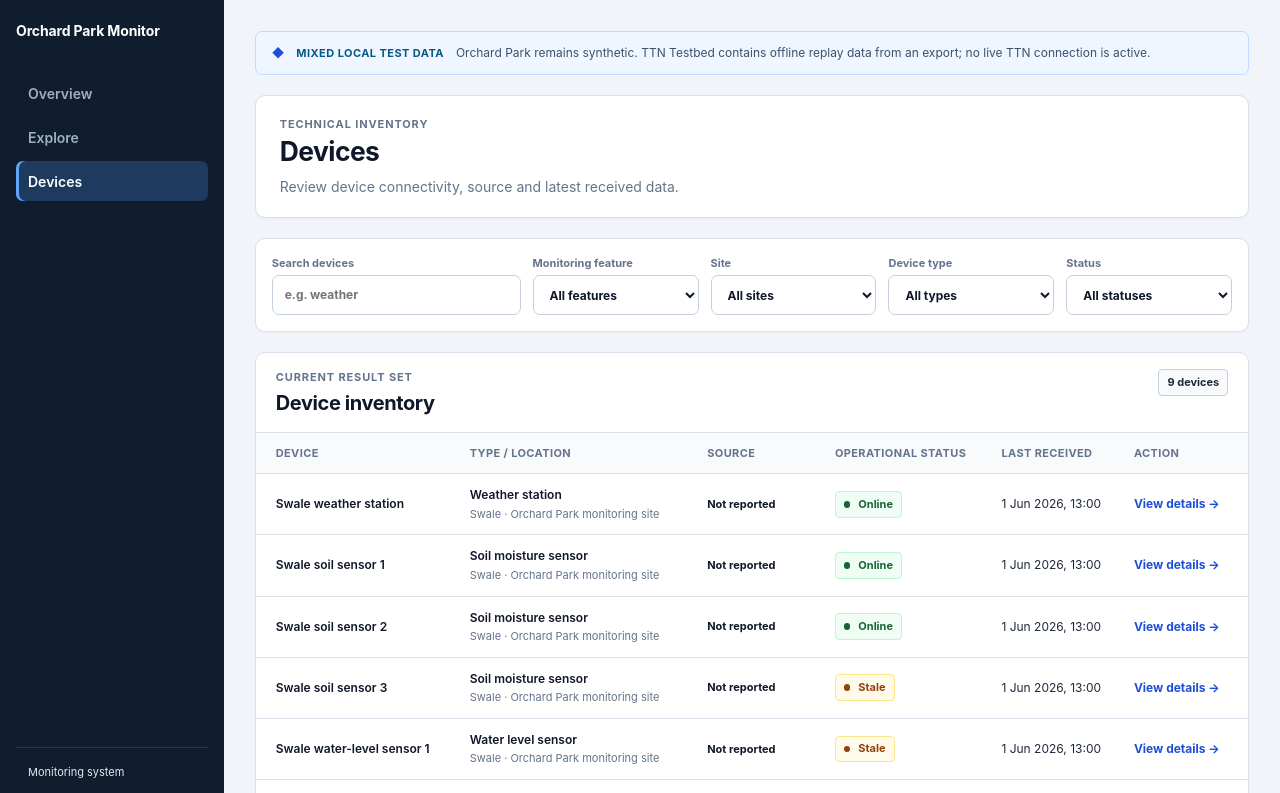
Test: monitoring dashboard › lists all status states and filters devices by public display name
Check: the text "Swale weather station" is shown, box [276,496,404,511]
Check: the column heading "Source" is shown, box [695,433,823,474]
Type "soil" into the search field labelled "Search devices" at (396, 295), box [272,275,521,315]
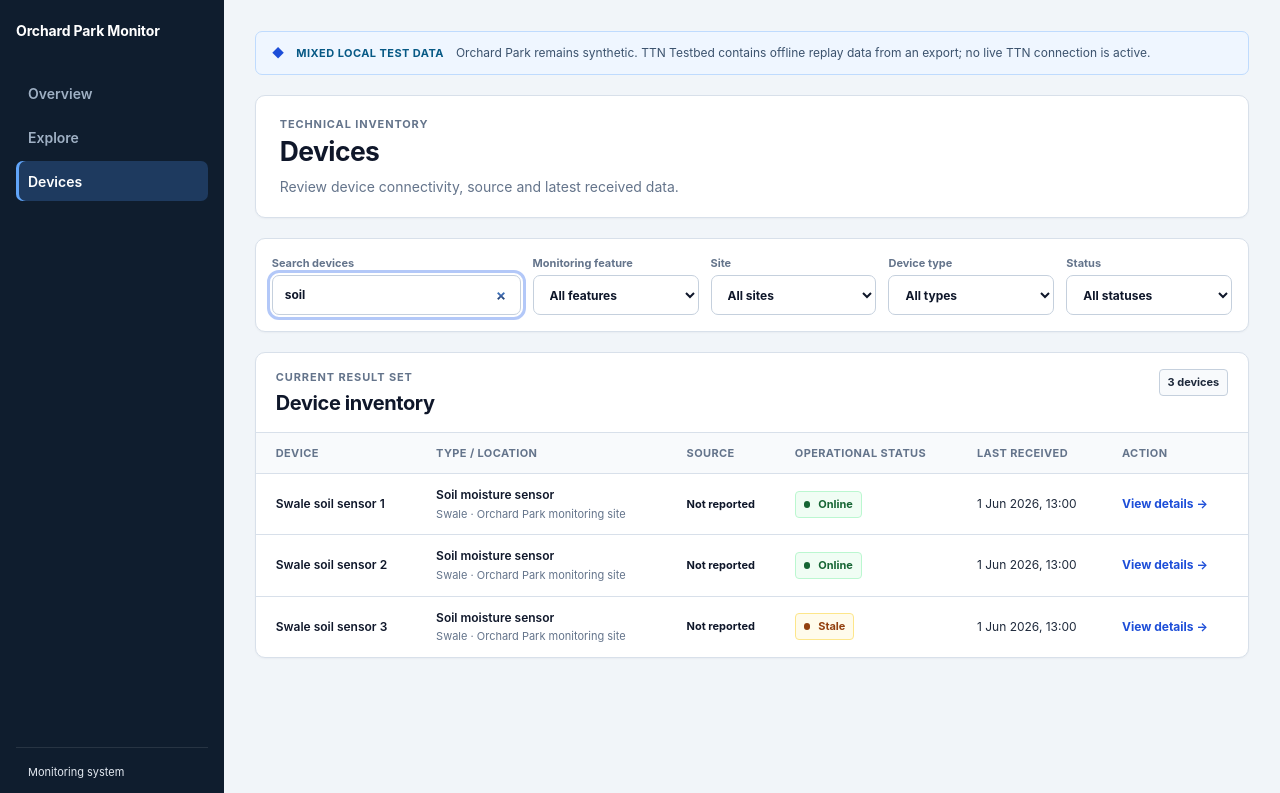
Check: the text "Swale soil sensor 1" is shown, box [276,496,385,511]
Check: the text "Swale weather station" is gone
